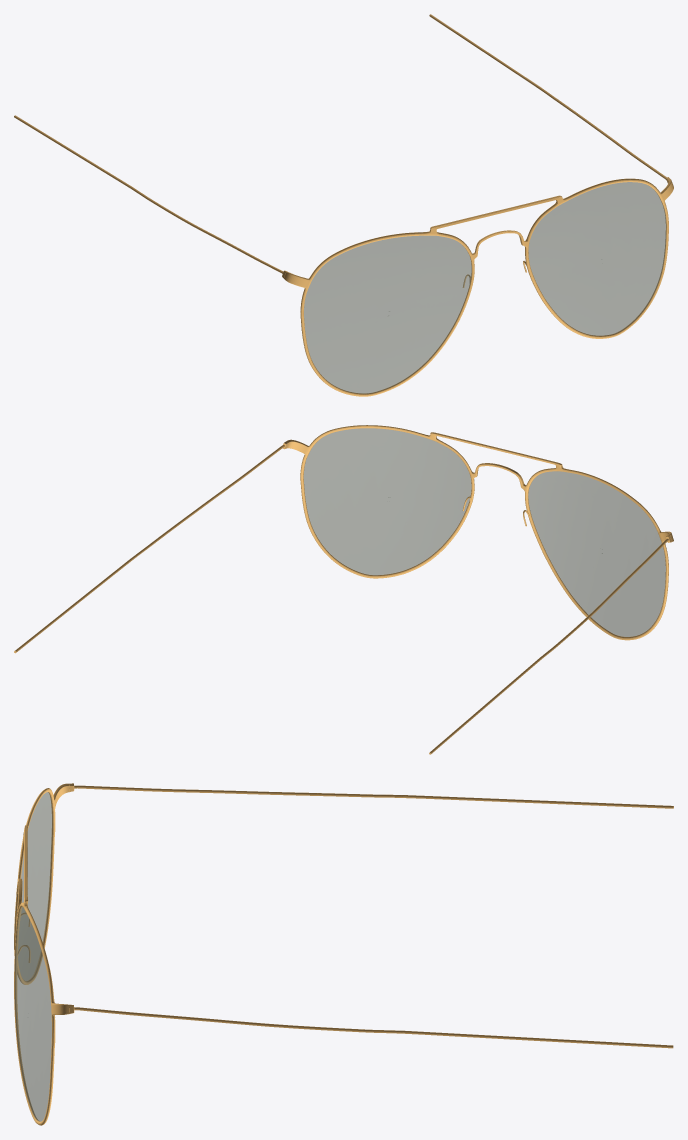
File: glasses-2.glb
The picture shows the model from 3 angles, top to bottom: view 1: azimuth 30°, elevation 25°; view 2: azimuth 150°, elevation 25°; view 3: azimuth 270°, elevation 25°; orthographic projection. The views are drawn at different scales.
Parts seen in each view (by area): view 1: glasses, frame, bow_right, bow_left; view 2: glasses, frame, bow_left, bow_right; view 3: glasses, frame, bow_left, bow_right.
Boxes of the visible parts, left/top/right/bottom form: glasses: left=304, top=182, right=666, bottom=393; frame: left=281, top=177, right=673, bottom=396; bow_right: left=14, top=115, right=282, bottom=272; bow_left: left=429, top=14, right=666, bottom=179; glasses: left=303, top=428, right=665, bottom=636; frame: left=282, top=425, right=673, bottom=640; bow_left: left=14, top=445, right=283, bottom=653; bow_right: left=429, top=539, right=667, bottom=754; glasses: left=15, top=792, right=52, bottom=1121; frame: left=14, top=783, right=77, bottom=1125; bow_left: left=76, top=1007, right=673, bottom=1048; bow_right: left=77, top=785, right=673, bottom=808.
Bounding box in the file's own units: 16.68 × 6.01 × 19.31.
